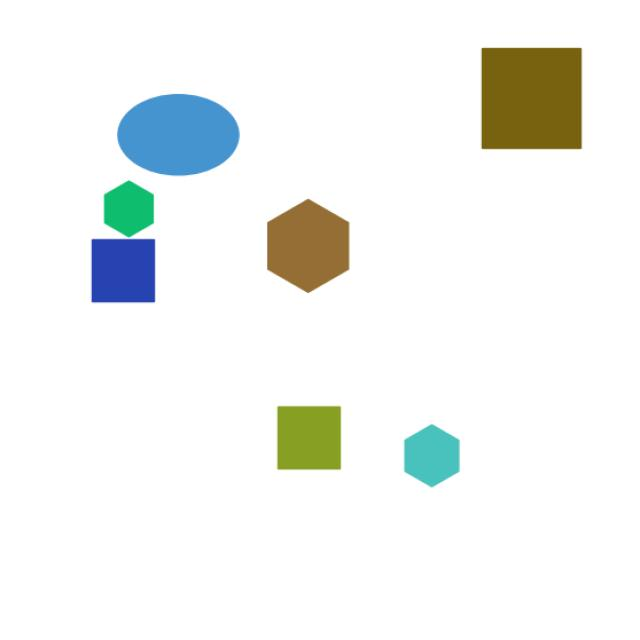Hexagon: (255, 186, 363, 303), (397, 418, 470, 492), (95, 179, 169, 246)
Oval: (110, 92, 252, 186)
square: (466, 27, 594, 163), (255, 389, 361, 485), (89, 228, 165, 314)
